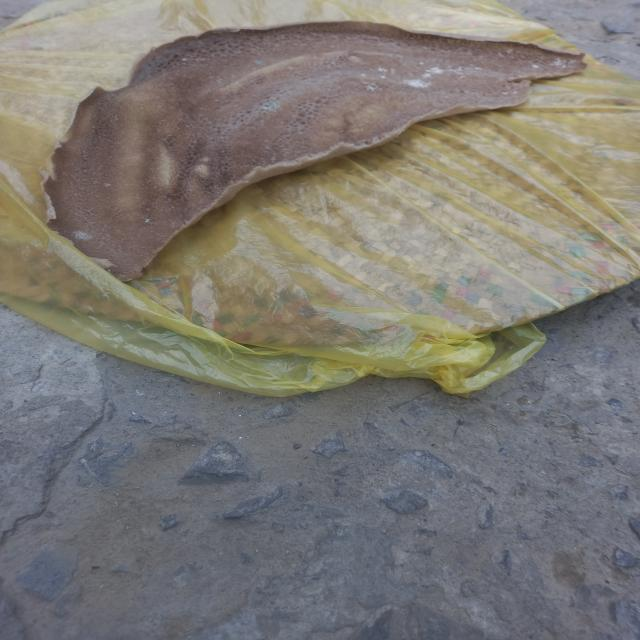injera_mold: (70, 225, 96, 243), (420, 64, 449, 80), (401, 77, 435, 90), (262, 97, 286, 113), (363, 78, 385, 94), (550, 56, 574, 70), (250, 56, 270, 66), (374, 64, 390, 75), (530, 62, 544, 68)
